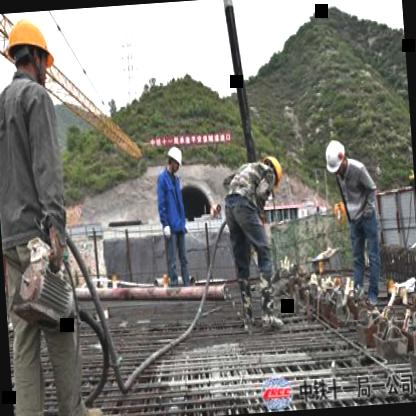helmet: (2, 10, 57, 92), (321, 138, 350, 179), (263, 153, 286, 189), (166, 143, 184, 176)
